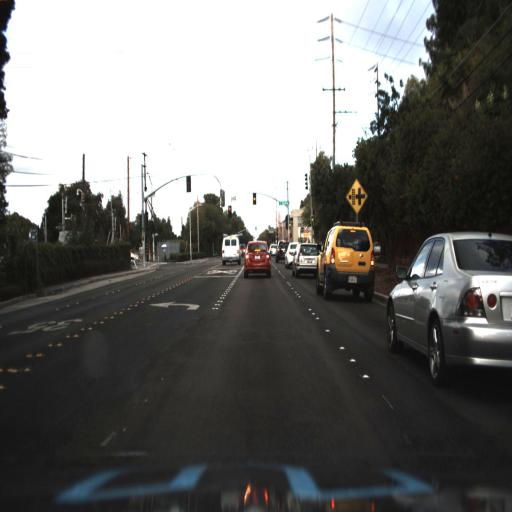car: (382, 230, 511, 381), (310, 217, 383, 303), (235, 228, 276, 281), (295, 236, 317, 286), (217, 229, 238, 265), (284, 237, 299, 273), (273, 238, 288, 265)
trafficLight: (250, 187, 257, 213), (225, 201, 233, 219)
